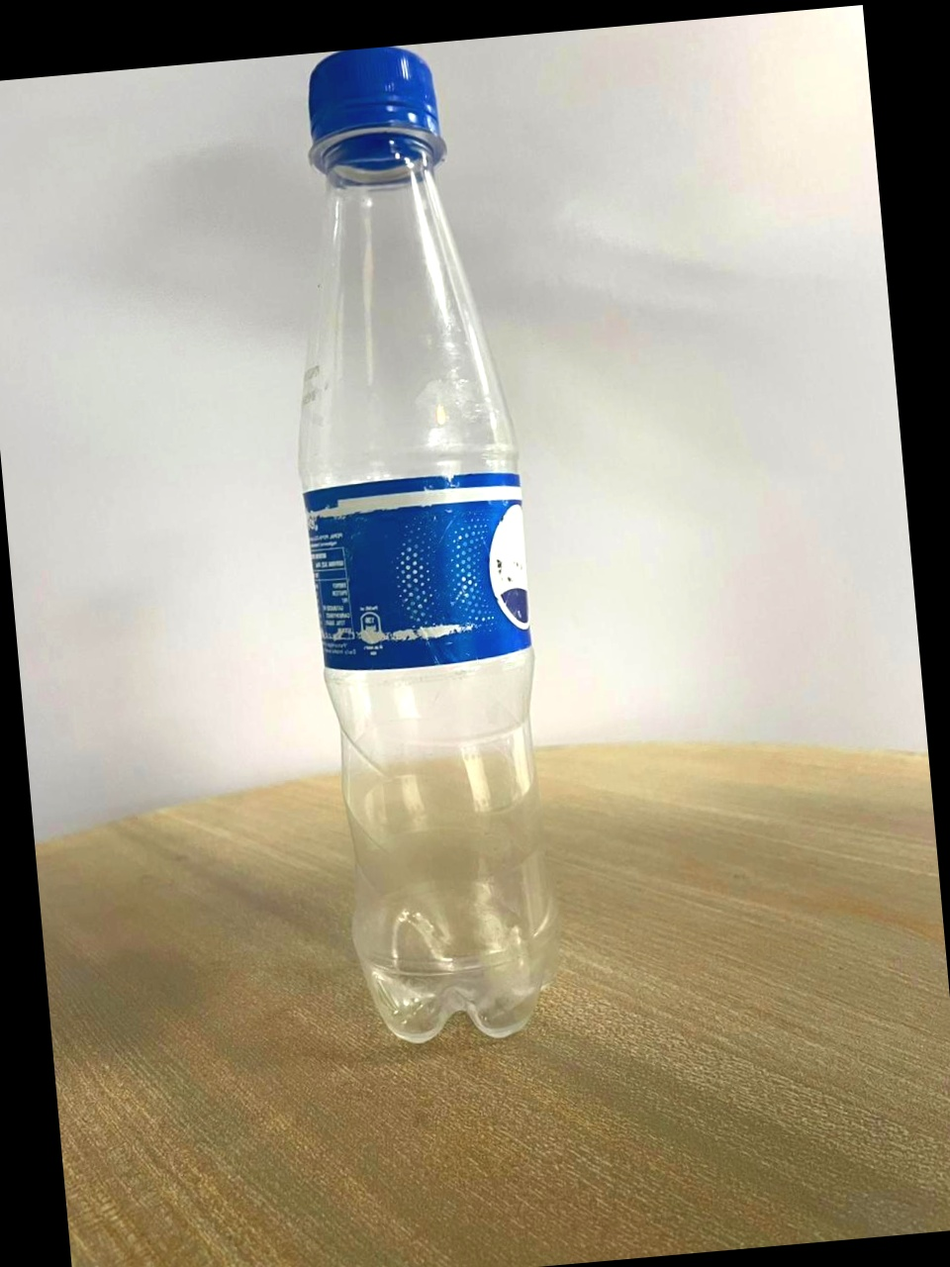Pepsi Bottle: (240, 38, 584, 1075), (244, 38, 583, 1071)
